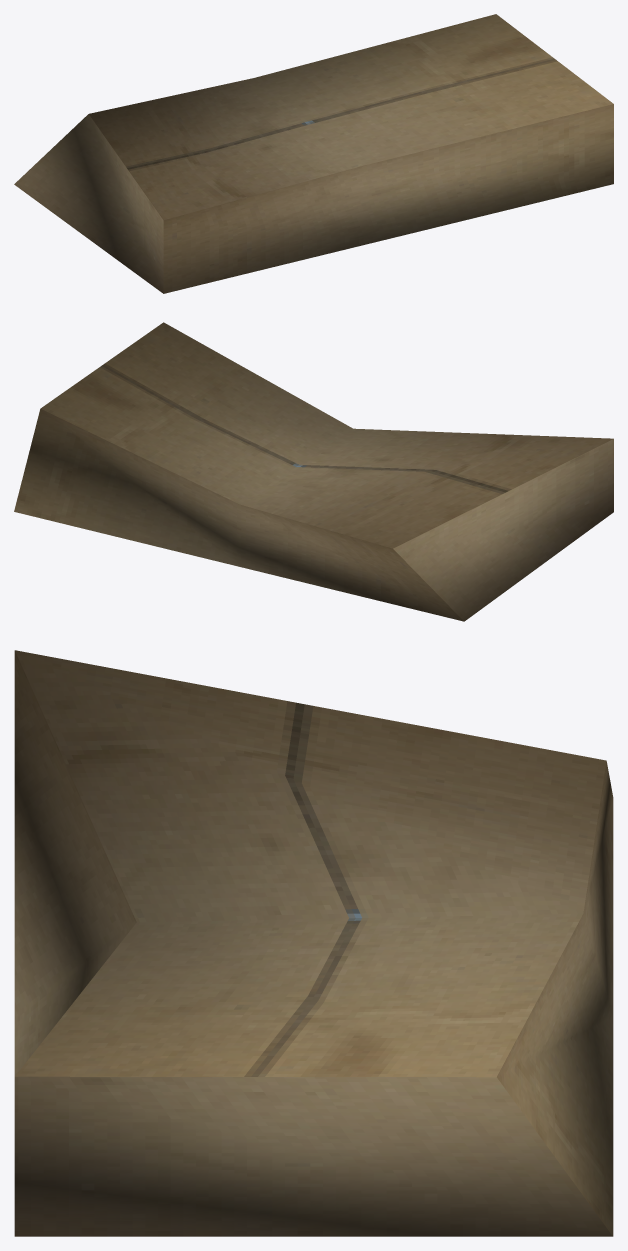
The model's file is cardboardbox_4.glb.
3 renders of one model, top to bottom at view 1: azimuth 30°, elevation 25°; view 2: azimuth 150°, elevation 25°; view 3: azimuth 270°, elevation 25°, orthographic. The views are drawn at different scales.
Parts seen in each view (by area): view 1: CardboardBox_4; view 2: CardboardBox_4; view 3: CardboardBox_4.
Part boxes in pixels (x1=…): CardboardBox_4: x1=14, y1=14, x2=613, y2=293; CardboardBox_4: x1=14, y1=322, x2=613, y2=621; CardboardBox_4: x1=14, y1=650, x2=613, y2=1236.
Size of the model in its own units: 1.25 by 0.2144 by 0.7163.
Materials: 1 (1 with a texture image).
